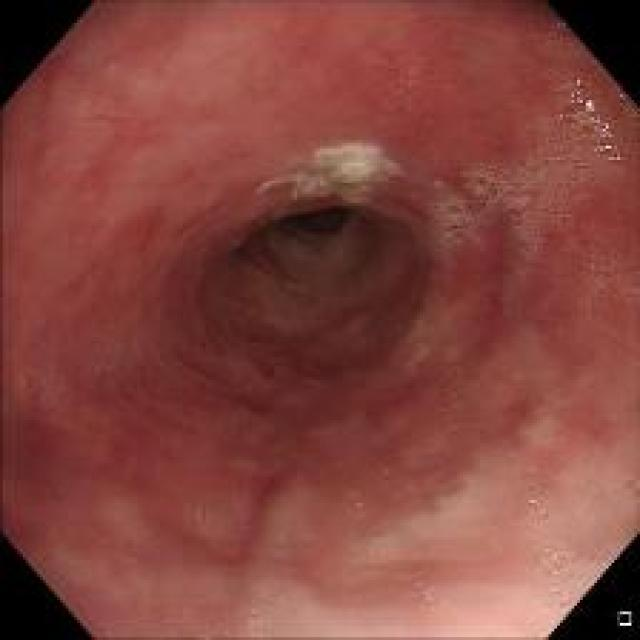bubbles: (539, 108, 592, 199), (465, 170, 539, 212), (435, 192, 475, 244), (509, 209, 545, 266), (536, 64, 574, 104), (585, 255, 628, 285), (535, 542, 569, 576), (525, 492, 556, 524), (410, 576, 440, 605), (388, 72, 418, 101), (346, 488, 371, 521), (14, 368, 38, 402), (189, 505, 214, 535), (546, 582, 574, 608), (362, 545, 389, 570), (40, 371, 61, 400), (616, 275, 639, 301), (242, 610, 269, 630), (90, 359, 118, 376), (239, 509, 259, 531), (621, 474, 638, 496), (605, 414, 622, 430), (578, 299, 596, 314)
color misalignment: (566, 80, 625, 171)
contrast: (288, 214, 350, 236)
